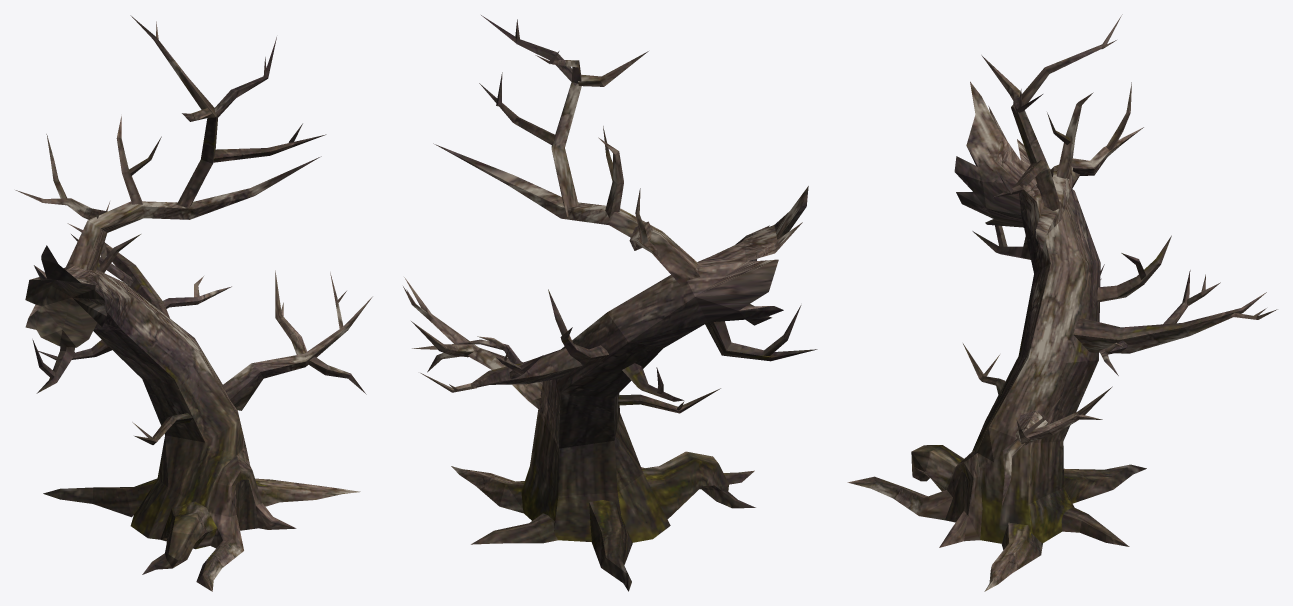
The model's file is Old_Tree.FBX.
The picture shows the model from 3 angles, left to right: view 1: azimuth 30°, elevation 25°; view 2: azimuth 150°, elevation 25°; view 3: azimuth 270°, elevation 25°; orthographic projection. The views are drawn at different scales.
Parts seen in each view (by area): view 1: Old_Tree; view 2: Old_Tree; view 3: Old_Tree.
Part boxes in pixels (box(x1,y1,x2,y2)): Old_Tree: box(15, 15, 372, 591); Old_Tree: box(403, 15, 817, 591); Old_Tree: box(847, 14, 1277, 591).
Bounding box in the file's own units: 5596 × 7001 × 5553.
